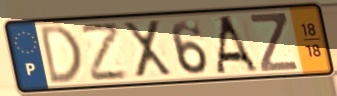6: (169, 18, 210, 76)
A: (214, 14, 261, 75)
D: (38, 23, 85, 88)
X: (120, 18, 175, 81)
Z: (248, 11, 301, 74), (79, 20, 131, 84)
